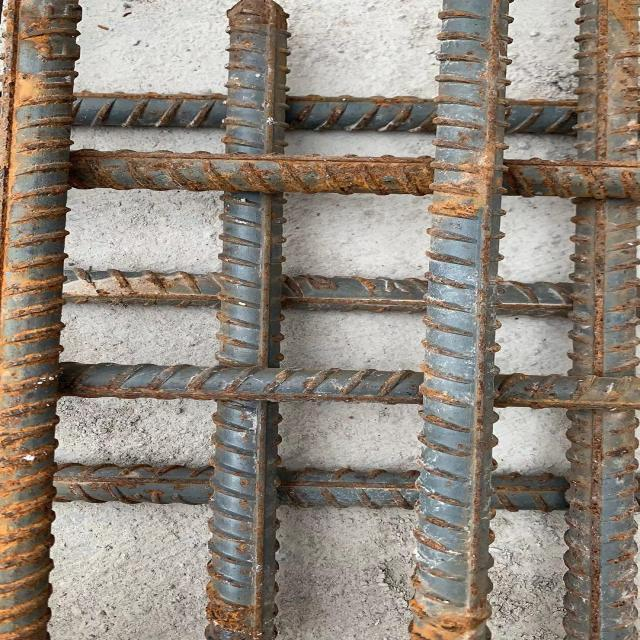ribbed bar: (404, 0, 518, 639), (202, 0, 289, 639), (0, 0, 83, 639), (559, 1, 639, 639), (69, 148, 639, 202), (60, 360, 639, 410), (53, 461, 565, 514), (62, 268, 566, 321), (73, 90, 575, 138)
